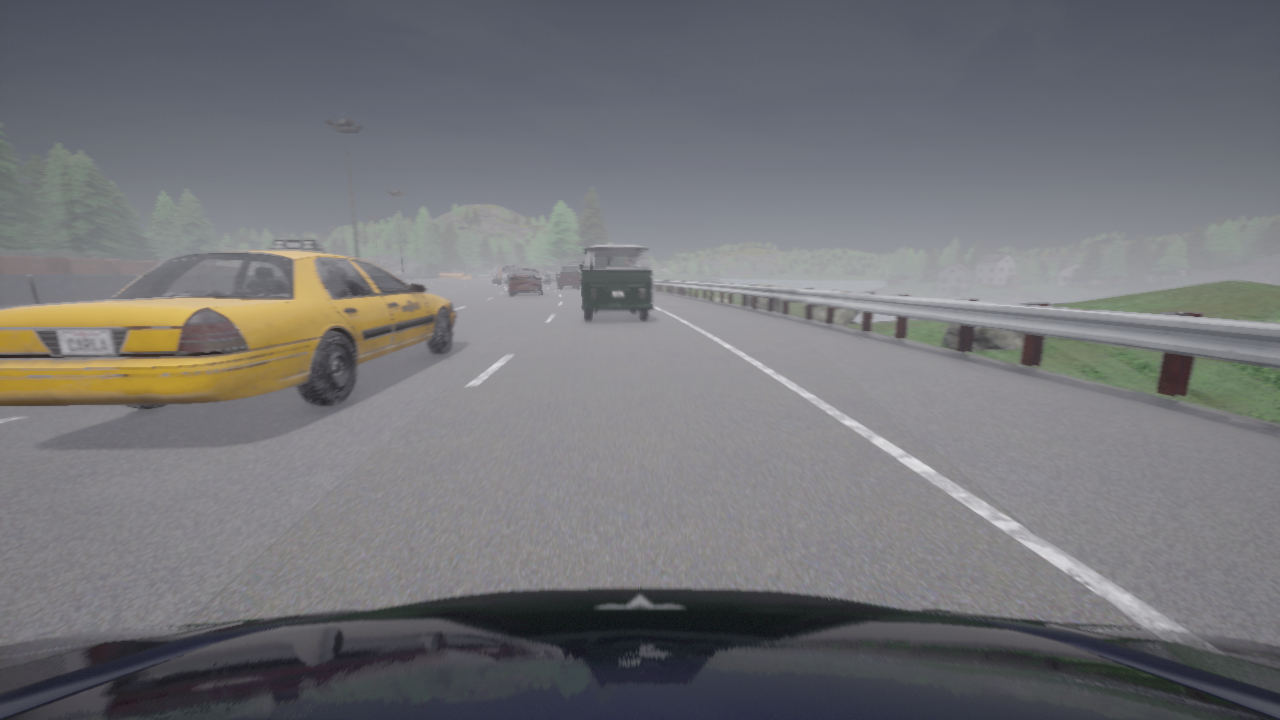cyclist: (0, 588, 1279, 719), (0, 239, 455, 408), (579, 243, 652, 320), (509, 269, 544, 295), (554, 265, 580, 288), (493, 264, 514, 282), (507, 268, 524, 284), (539, 272, 549, 283)
